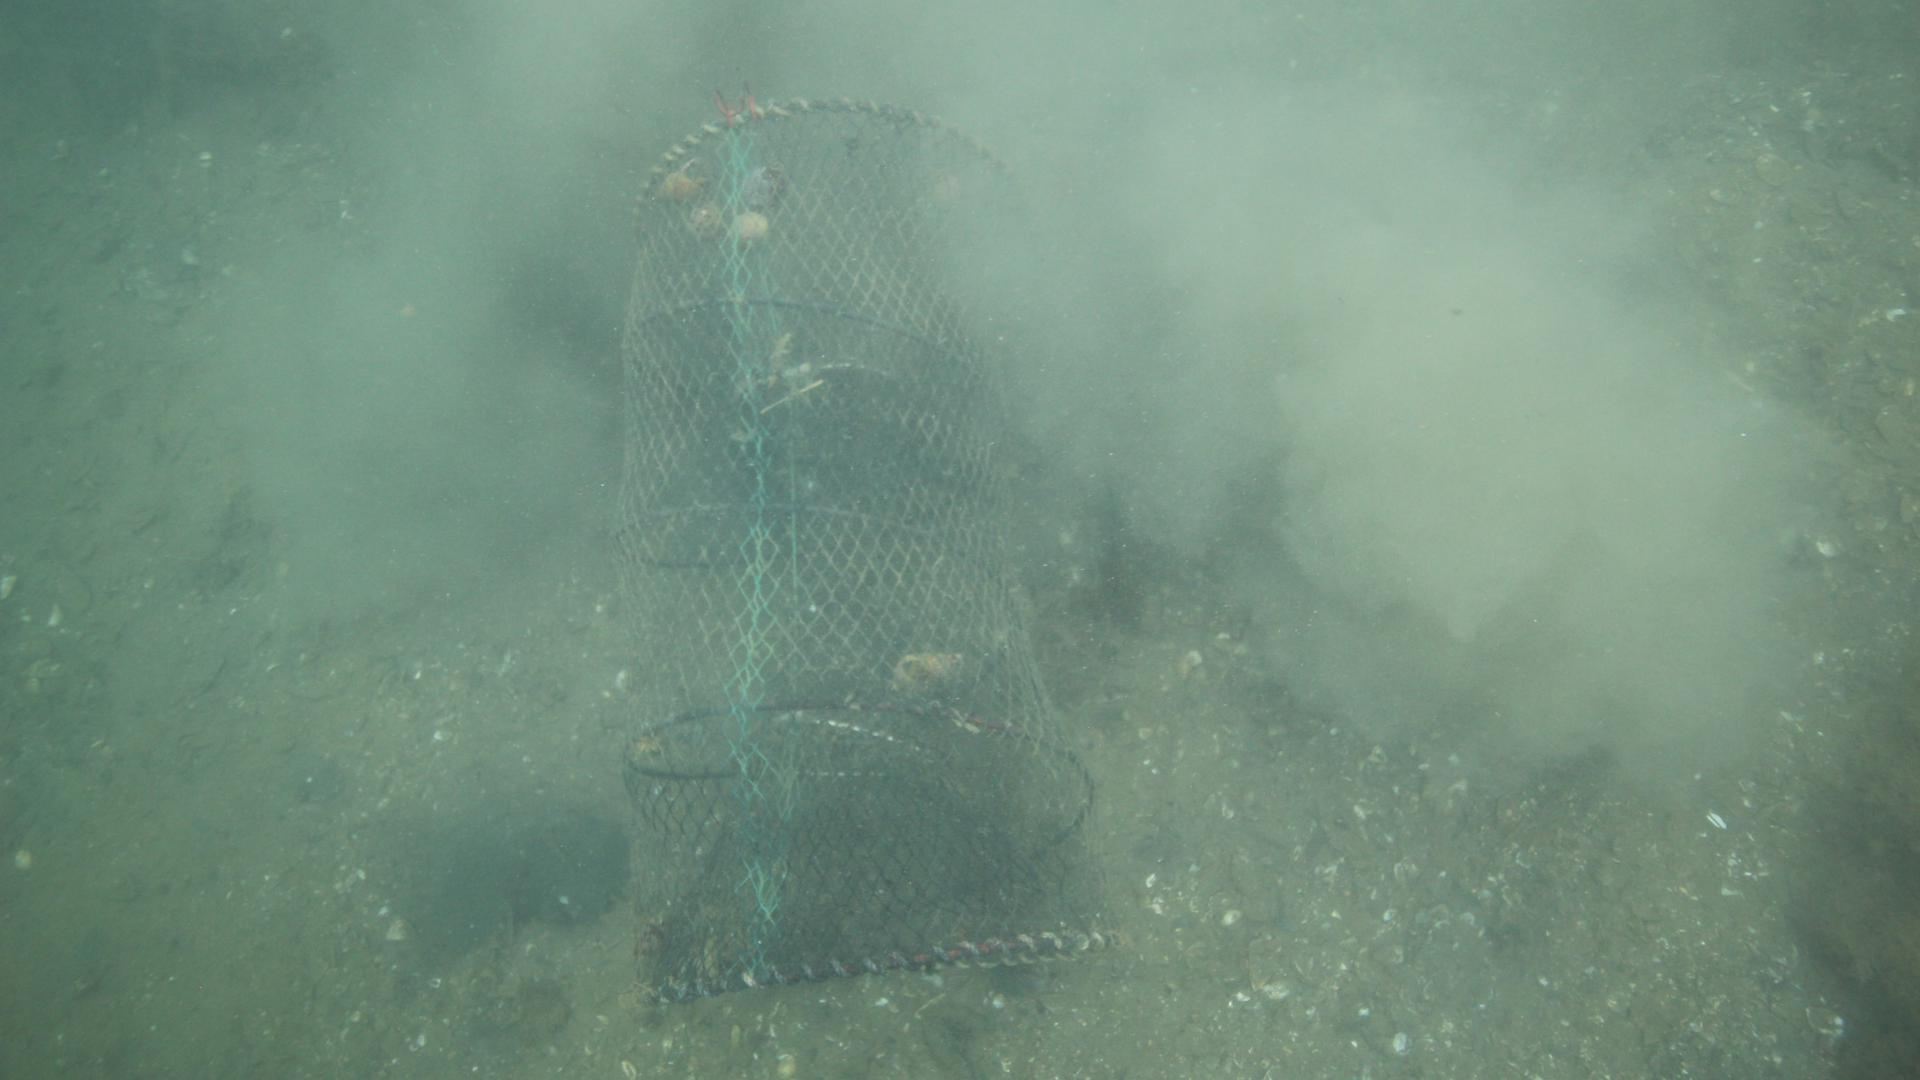spring fish trap: (611, 91, 1101, 1017)
